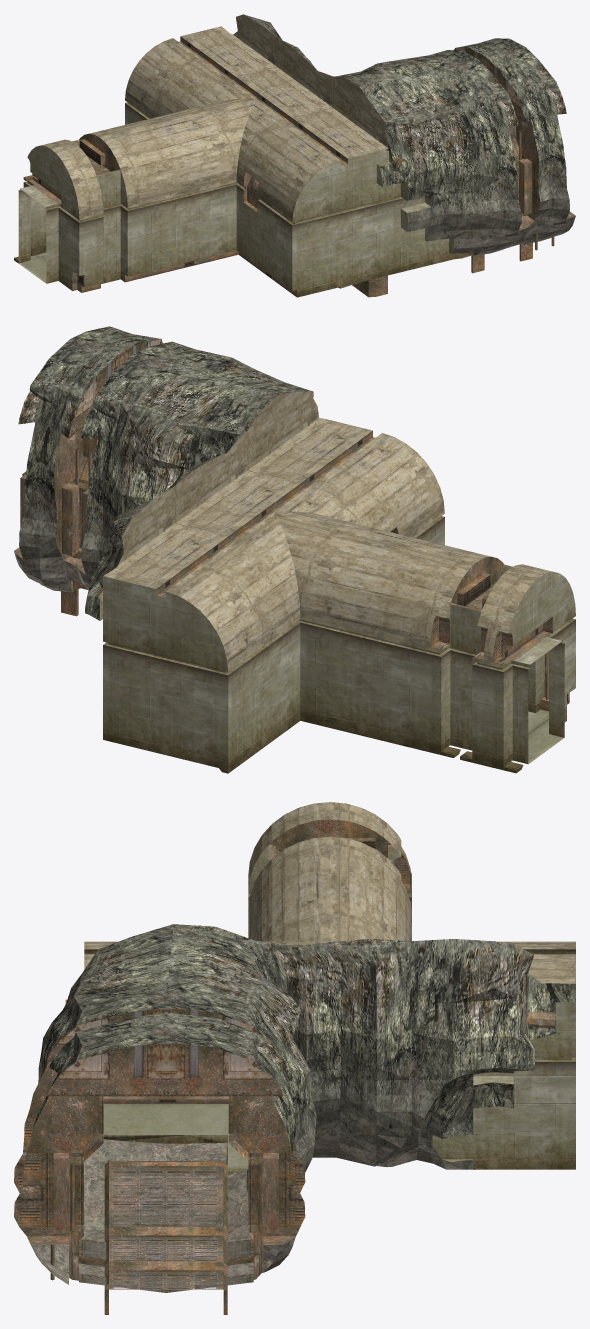
Rendered from poi_all_bunker_allum_mine_r59_hall59_mesh_r59.fbx.
The picture shows the model from 3 angles, top to bottom: view 1: azimuth 30°, elevation 25°; view 2: azimuth 150°, elevation 25°; view 3: azimuth 270°, elevation 25°; orthographic projection. The views are drawn at different scales.
Visible parts, largest first — view 1: mesh_node; view 2: mesh_node; view 3: mesh_node.
Part boxes in pixels (left/top/right/bottom): mesh_node: left=14, top=14, right=575, bottom=297; mesh_node: left=14, top=326, right=575, bottom=773; mesh_node: left=14, top=802, right=575, bottom=1314.
Bounding box in the file's own units: 18 × 7.64 × 13.71.
